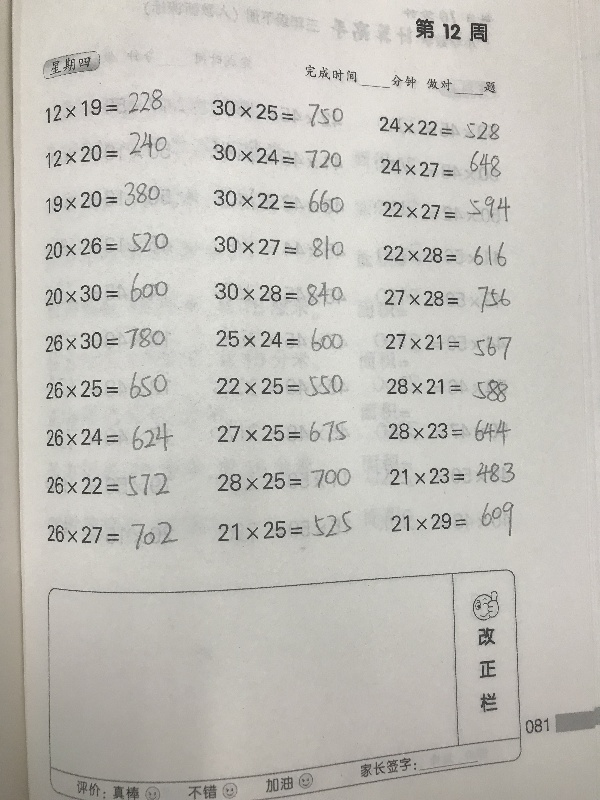equation: (42, 130, 170, 174), (45, 81, 166, 127), (43, 515, 179, 552), (209, 95, 347, 131), (387, 496, 516, 534), (214, 513, 356, 547), (41, 275, 171, 312), (380, 281, 512, 315), (385, 325, 517, 359), (43, 368, 171, 403), (379, 193, 514, 226), (209, 140, 343, 173), (214, 461, 352, 493), (213, 324, 347, 356), (210, 186, 348, 217), (43, 417, 171, 450), (212, 279, 347, 310), (379, 237, 509, 269), (373, 112, 504, 143), (378, 150, 509, 181), (44, 469, 174, 500), (384, 414, 514, 445), (214, 417, 351, 446), (41, 180, 168, 211), (213, 372, 346, 401), (383, 372, 511, 402), (383, 459, 518, 487), (41, 231, 172, 259), (41, 325, 168, 353), (210, 233, 299, 258)
